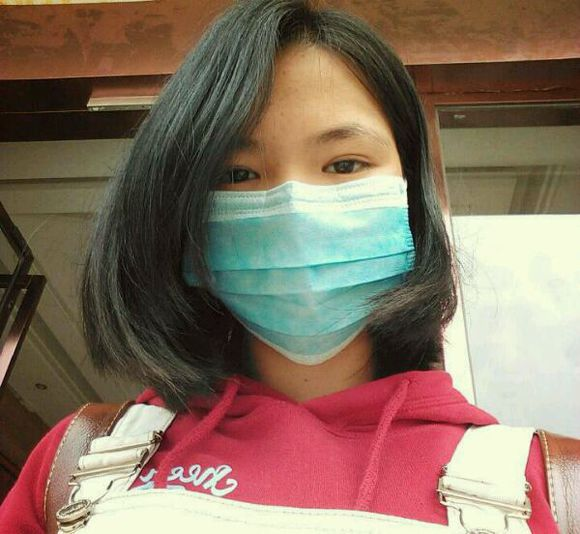face_mask: (192, 56, 405, 353)
